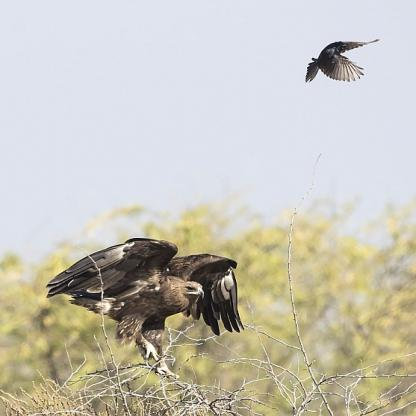Burung: (39, 239, 242, 380), (305, 39, 378, 80)
